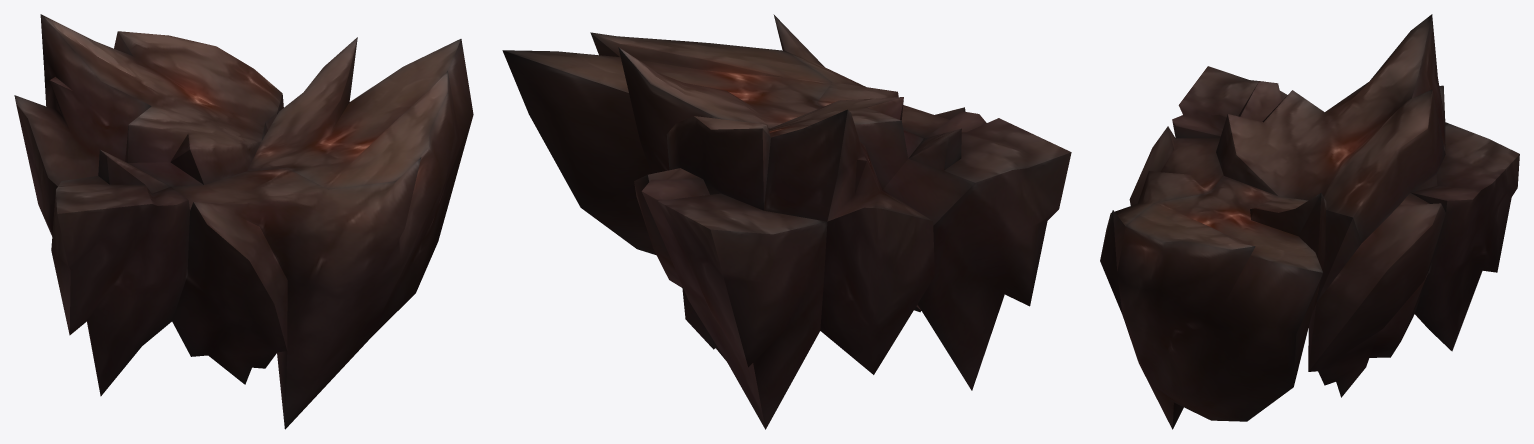
Rendered from 1005_Item_Stone_04.FBX.
3 views of the same model, side by side, from view 1: azimuth 30°, elevation 25°; view 2: azimuth 150°, elevation 25°; view 3: azimuth 270°, elevation 25° (orthographic). The views are drawn at different scales.
Visible parts, largest first — view 1: 1005_Item_Stone_04; view 2: 1005_Item_Stone_04; view 3: 1005_Item_Stone_04.
Part boxes in pixels (x1,y1,x2,y2): 1005_Item_Stone_04: (14,14,473,429); 1005_Item_Stone_04: (502,14,1071,429); 1005_Item_Stone_04: (1100,14,1519,429).
Size of the model in its own units: 9341 by 6805 by 7237.
